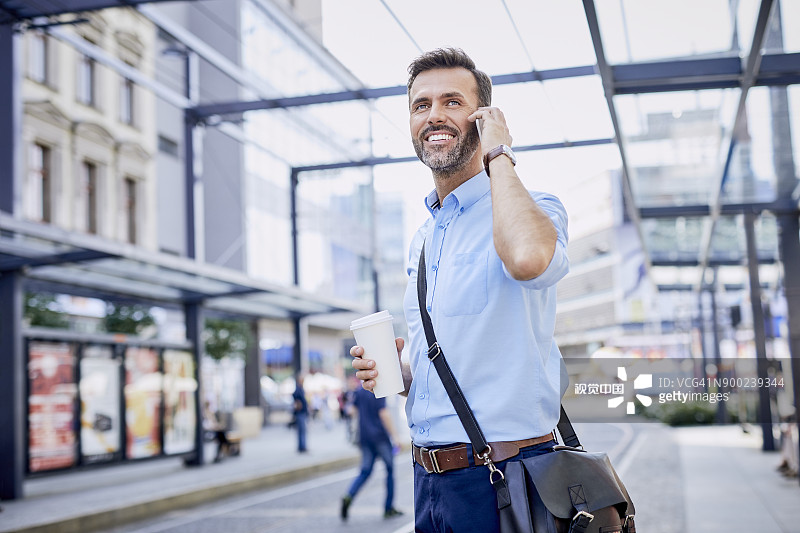calling: (459, 93, 536, 175)
no-phone: (329, 307, 416, 413)
